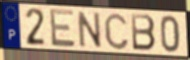0: (159, 14, 182, 54)
2: (24, 7, 47, 47)
B: (129, 13, 157, 53)
C: (103, 11, 131, 51)
E: (48, 8, 77, 48)
N: (76, 9, 103, 49)
